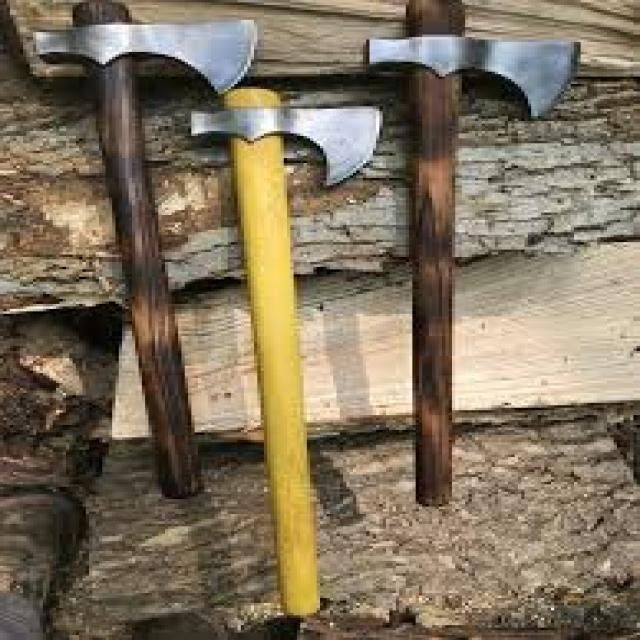hammer: (357, 0, 590, 524), (25, 0, 259, 502), (180, 87, 381, 628)
